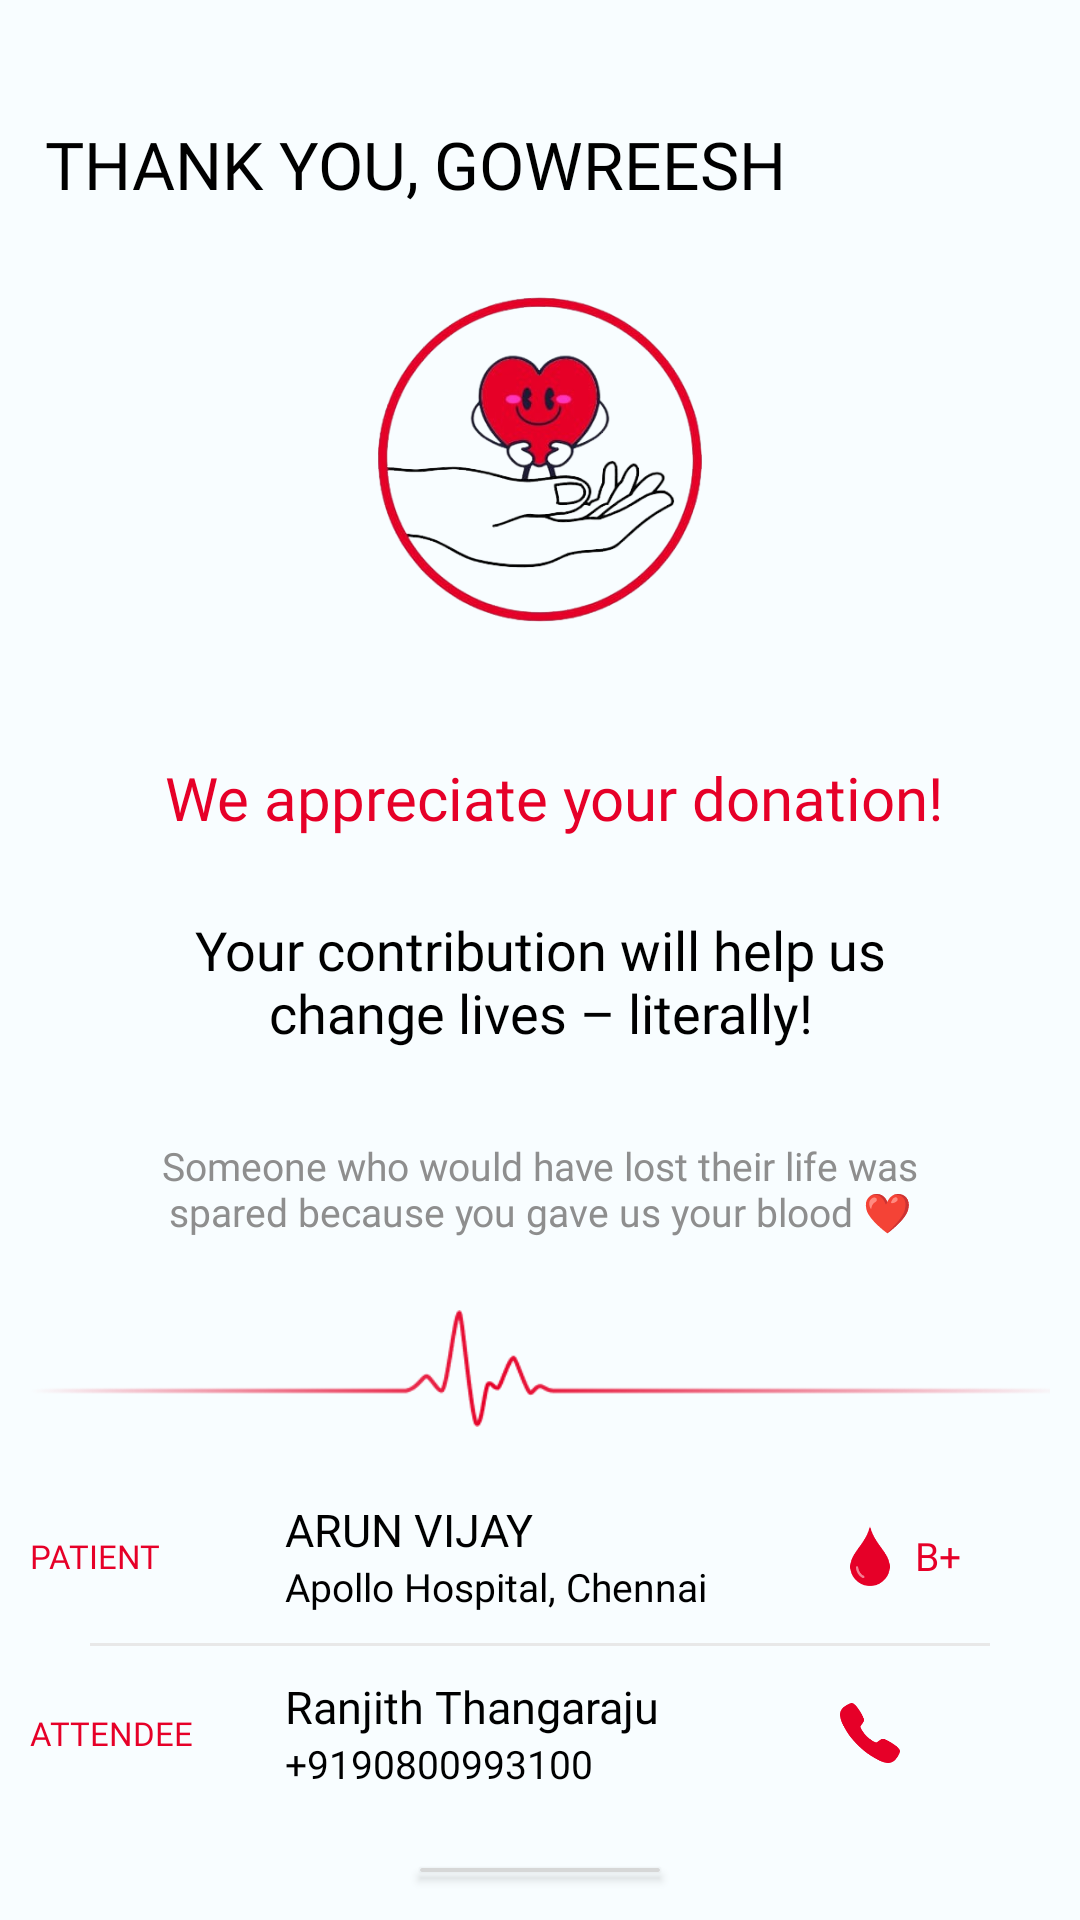

Icon click points for this 1080*1920 phone screenshot, format (x=x, y=y):
blood drop: (x=870, y=1556)
phone: (x=870, y=1733)
